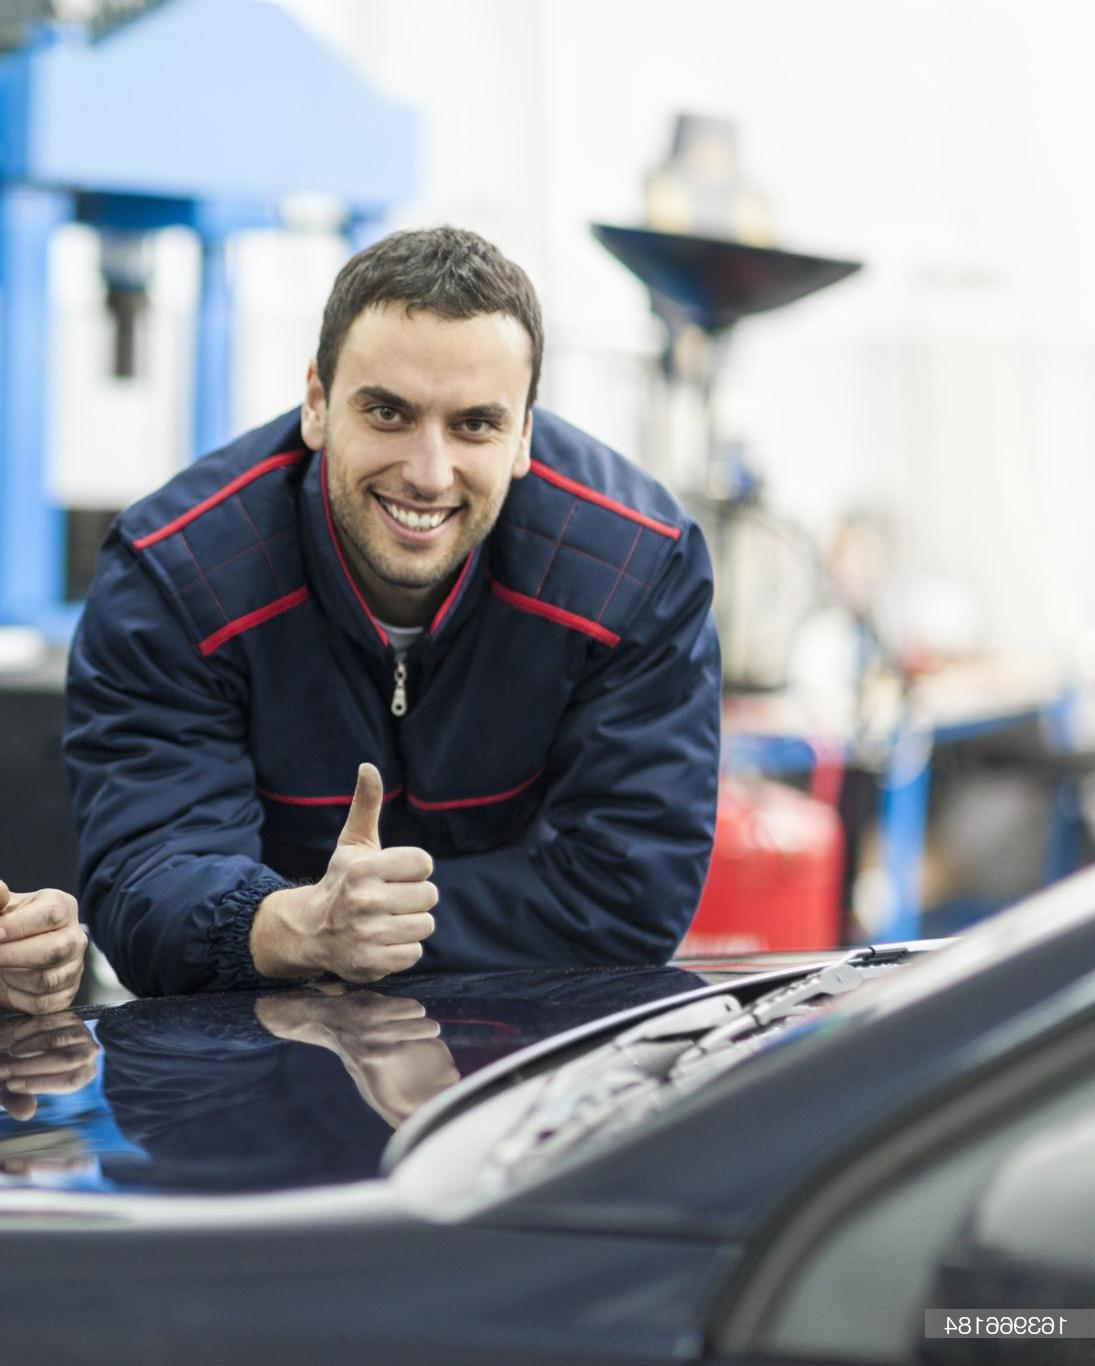thumbsup: (335, 761, 440, 974)
